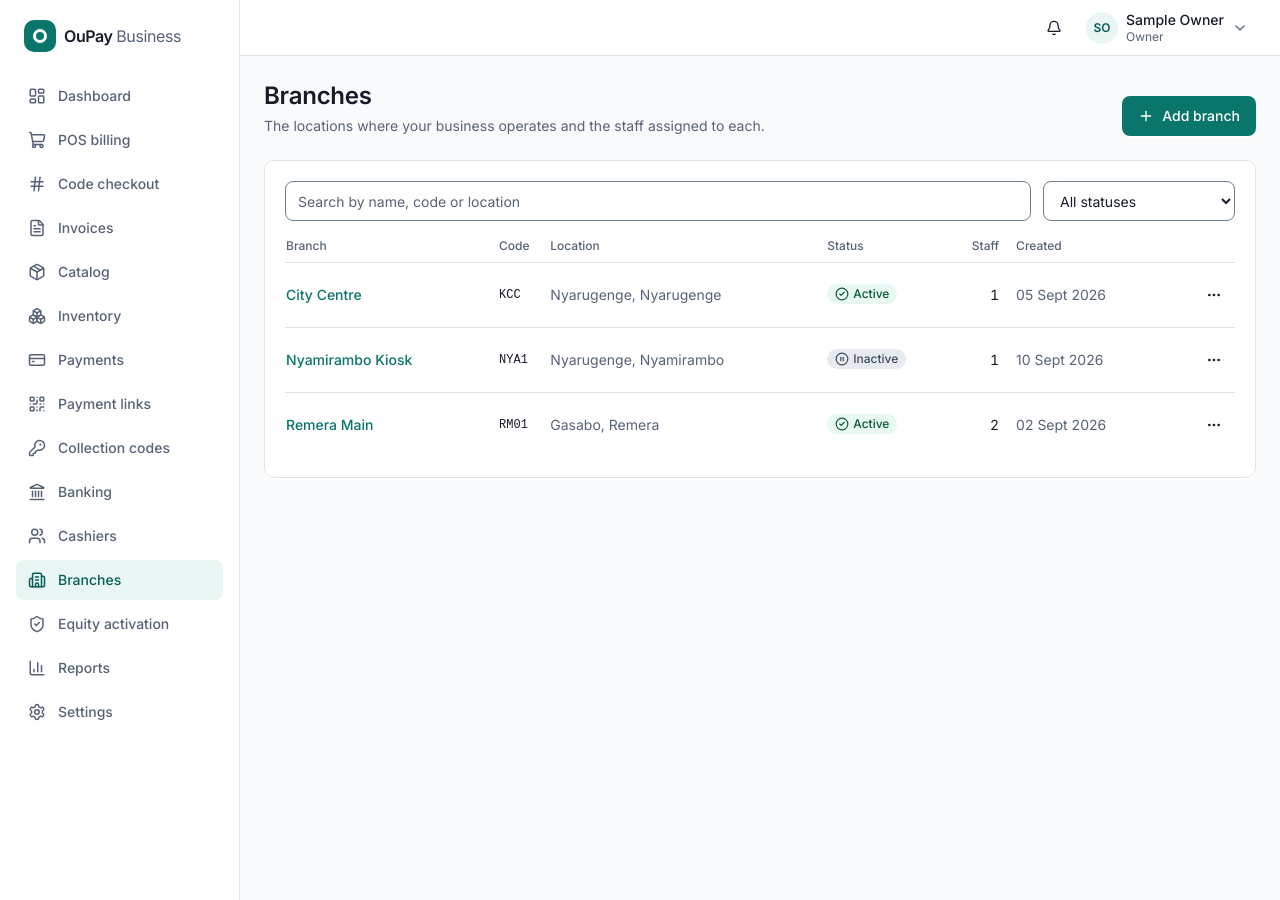
Test: branch list › explains when nothing matches
The width and height of the screenshot is (1280, 900).
Check: the table is shown, box [285,237,1235,457]
Type "zzzz" into the search field named "Search branches" at (658, 201), box [285,181,1031,221]
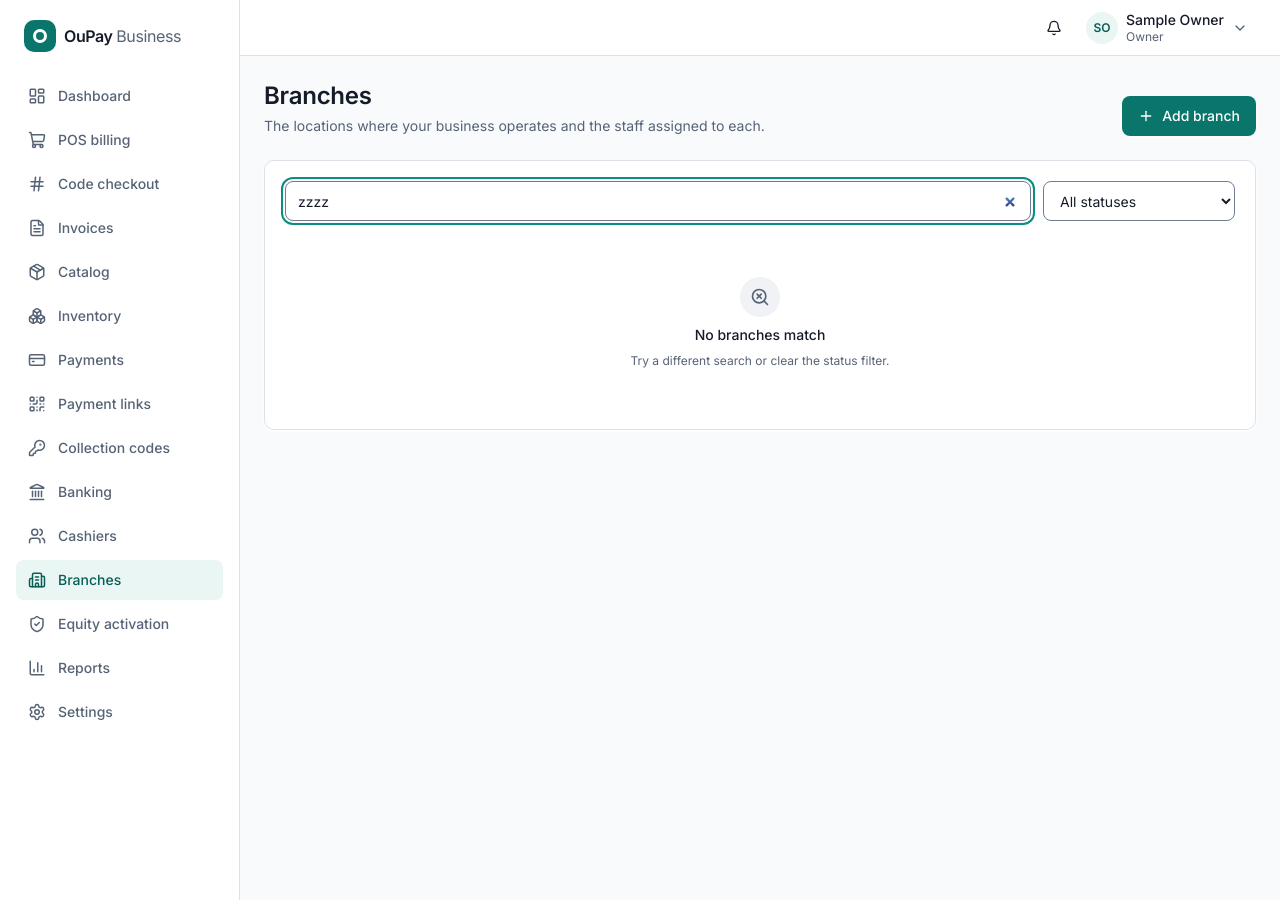
Check: the text "No branches match" is shown, box [695,325,825,345]
